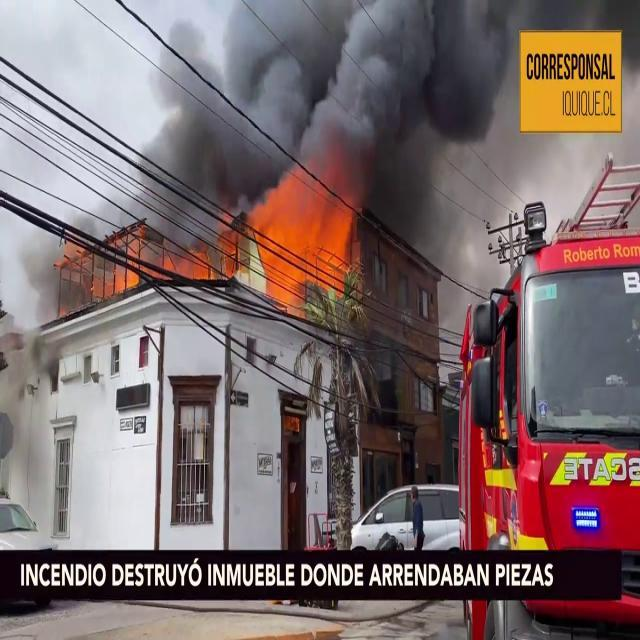Fire: (238, 165, 366, 312)
Smoke: (127, 0, 512, 228)
